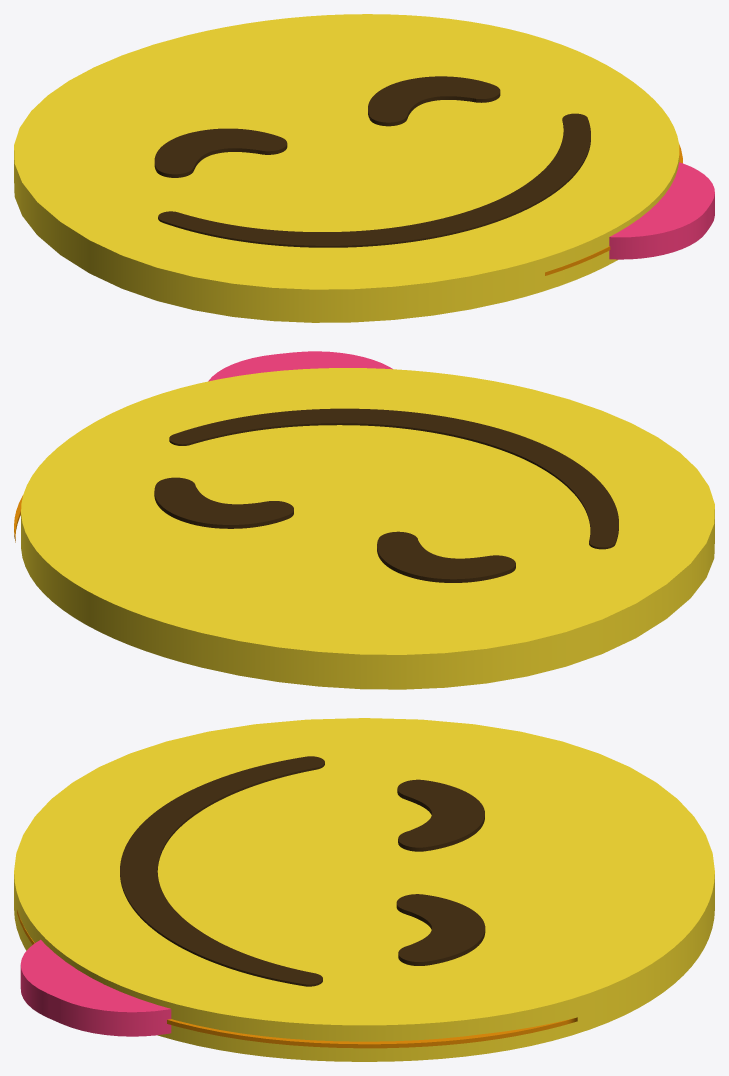
The model's file is emoji_u1f60b.glb.
The picture shows the model from 3 angles, top to bottom: view 1: azimuth 30°, elevation 25°; view 2: azimuth 150°, elevation 25°; view 3: azimuth 270°, elevation 25°; orthographic projection. The views are drawn at different scales.
Visible parts, largest first — view 1: emoji_u1f60b; view 2: emoji_u1f60b; view 3: emoji_u1f60b.
Boxes of the visible parts, box(x1,y1,x2,y2) form: emoji_u1f60b: box(14, 14, 714, 322); emoji_u1f60b: box(14, 351, 714, 689); emoji_u1f60b: box(14, 718, 714, 1061).
Size of the model in its own units: 0.0328 by 0.0022 by 0.0313.
